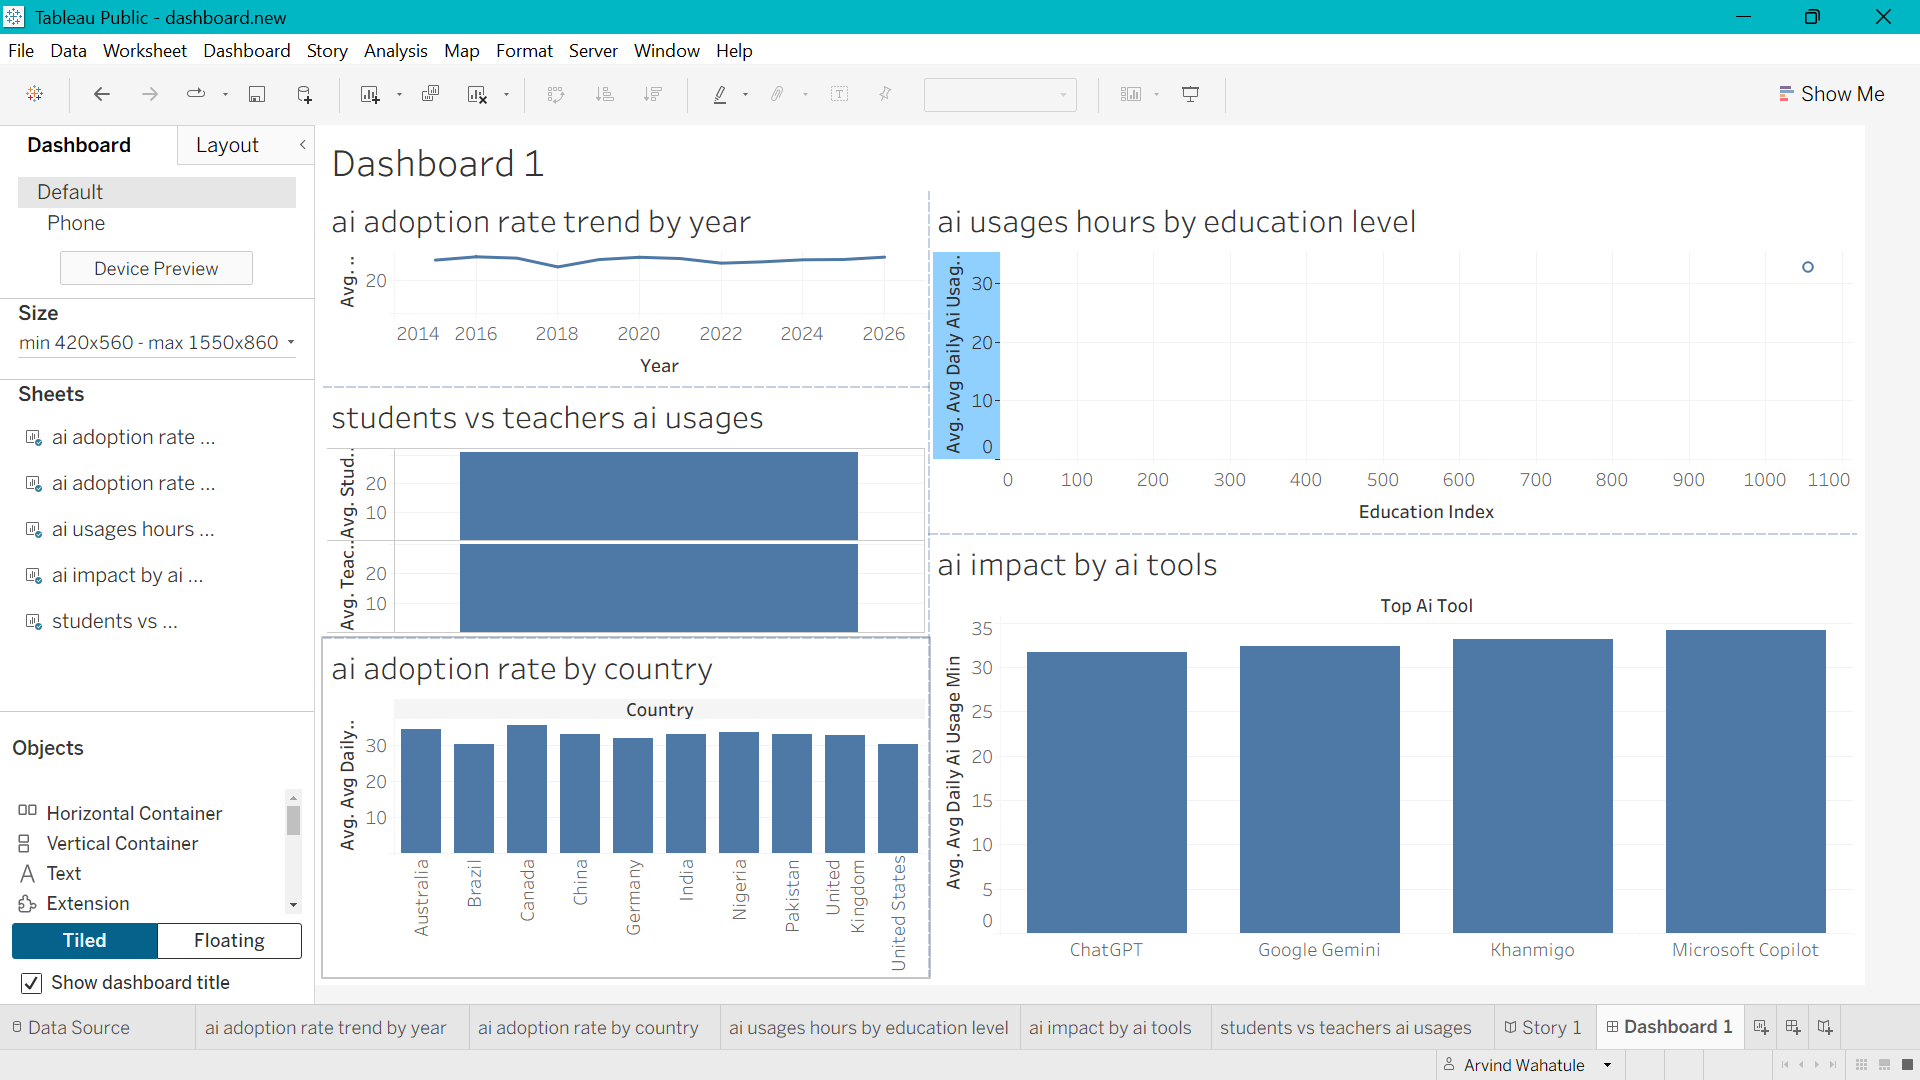

The dashboard page shown, as its layout file describes it:
{"tool":"tableau","page":{"name":"Dashboard 1","canvas":[1000,800],"ordinal":0},"visuals":[{"type":"worksheet","title":"AI Adoption rate trend by year","mark":"Automatic","rows":["avg_daily_ai_usage_min"],"cols":["year"],"box":[8,8,246,392]},{"type":"worksheet","title":"AI Impact/usages by AI Tool","mark":"Automatic","rows":["avg_daily_ai_usage_min"],"cols":["top_ai_tool"],"box":[254,8,246,392]},{"type":"worksheet","title":"AI Adoption rate by country","mark":"Automatic","rows":["avg_daily_ai_usage_min"],"cols":["country"],"box":[500,8,492,392]},{"type":"worksheet","title":"student vs teacher AI usages","mark":"Automatic","rows":["student_ai_usage_pct","teacher_ai_usage_pct"],"box":[8,400,492,392]},{"type":"worksheet","title":"AI usages hours by education level","mark":"Automatic","rows":["avg_daily_ai_usage_min"],"cols":["education_index"],"box":[500,400,492,392]}]}

Visuals, with their boxes in screenshot pixels (x1, y1, x2, y2):
"AI Adoption rate trend by year" worksheet: [x1=550, y1=30, x2=866, y2=534]
"AI Impact/usages by AI Tool" worksheet: [x1=866, y1=30, x2=1182, y2=534]
"AI Adoption rate by country" worksheet: [x1=1182, y1=30, x2=1814, y2=534]
"student vs teacher AI usages" worksheet: [x1=550, y1=534, x2=1182, y2=1037]
"AI usages hours by education level" worksheet: [x1=1182, y1=534, x2=1814, y2=1037]
